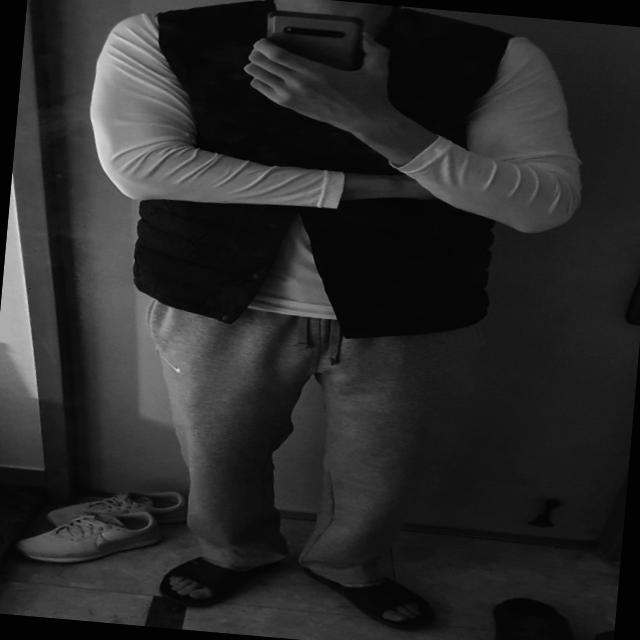longsleeve: (70, 0, 600, 345)
padding: (117, 0, 520, 342)
trainingpants: (125, 288, 449, 596)
